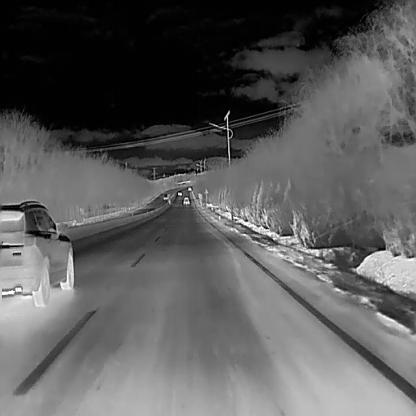car: (0, 197, 73, 306), (183, 196, 189, 203), (163, 193, 169, 199), (177, 189, 182, 195), (188, 186, 192, 190)
